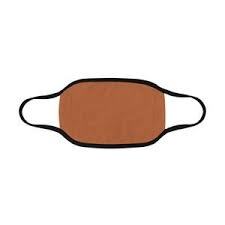flumask: (55, 80, 173, 158)
